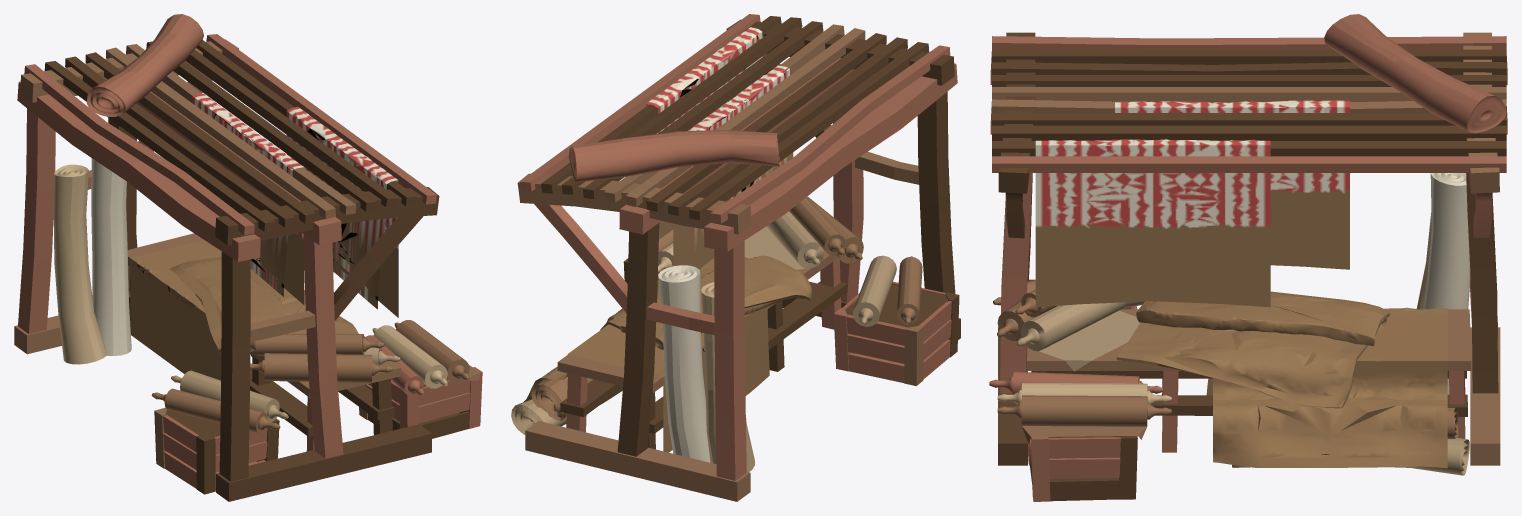
Rendered from 5MarketStall.fbx.
The picture shows the model from 3 angles, left to right: view 1: azimuth 30°, elevation 25°; view 2: azimuth 150°, elevation 25°; view 3: azimuth 270°, elevation 25°; orthographic projection. The views are drawn at different scales.
Parts seen in each view (by area): view 1: MerchantStall; view 2: MerchantStall; view 3: MerchantStall.
Part boxes in pixels (box(x1,y1,x2,y2)): MerchantStall: box(14, 14, 482, 501); MerchantStall: box(511, 14, 960, 501); MerchantStall: box(989, 14, 1507, 501).
Bounding box in the file's own units: 151 × 153 × 204.
Materials: 1 (1 with a texture image).
